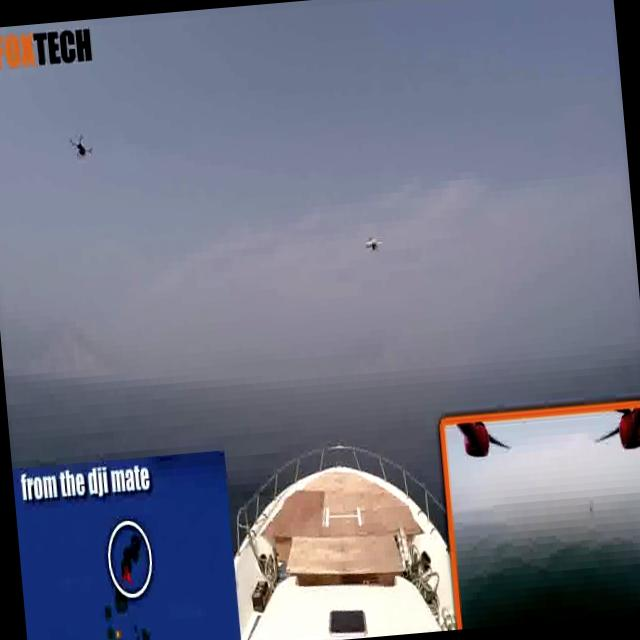drone: (362, 229, 384, 258), (69, 135, 90, 160)
